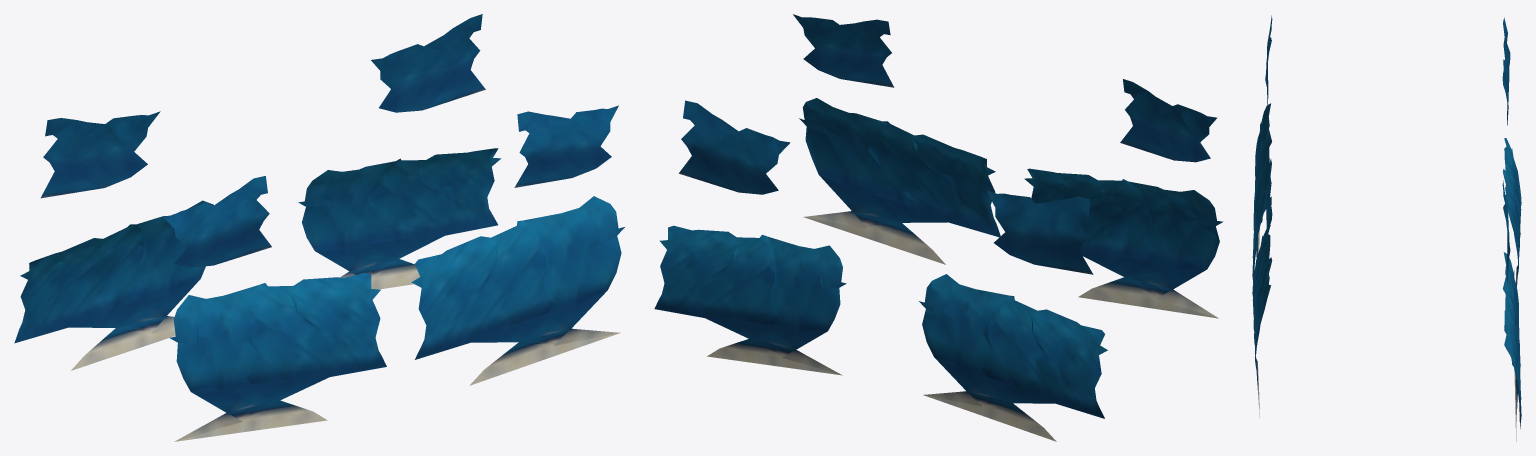
File: dragon_hybrid_torso.glb
3 renders of one model, left to right at view 1: azimuth 30°, elevation 25°; view 2: azimuth 150°, elevation 25°; view 3: azimuth 270°, elevation 25°, orthographic. The views are drawn at different scales.
Visible parts, largest first — view 1: dragon_hybrid_torso; view 2: dragon_hybrid_torso; view 3: dragon_hybrid_torso.
Boxes of the visible parts, x1,y1,x2,y2 form: dragon_hybrid_torso: [14, 14, 624, 441]; dragon_hybrid_torso: [654, 14, 1223, 441]; dragon_hybrid_torso: [1252, 15, 1521, 441].
Size of the model in its own units: 2.26 by 1.24 by 1.18.
1 material, 1 textured.
